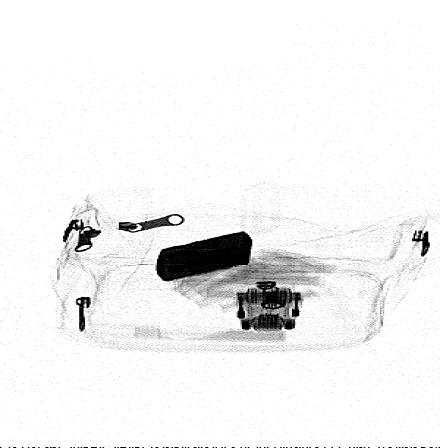Lighter: (155, 230, 254, 282)
